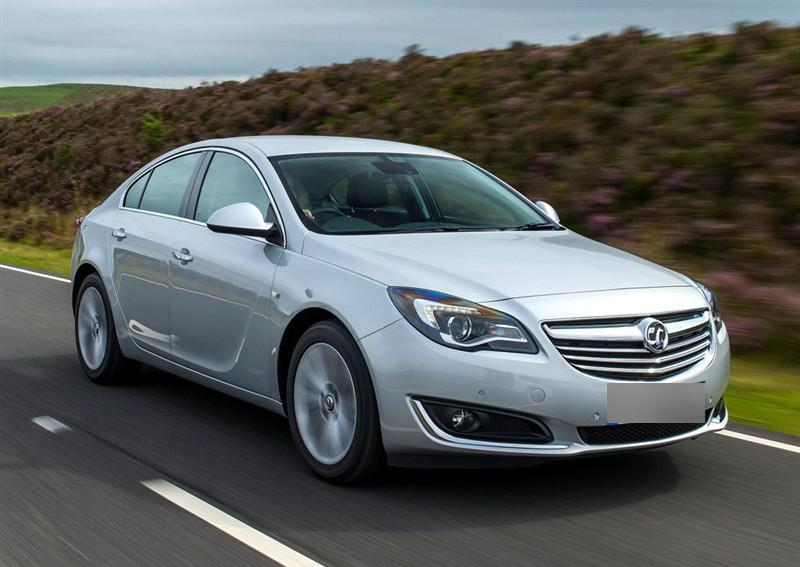Wagon: (68, 133, 733, 486)
